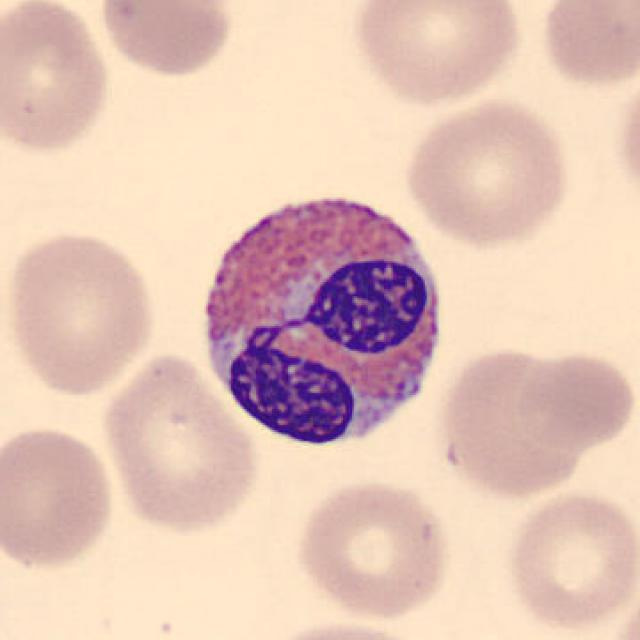Eosinophil: (185, 174, 455, 466)
RBC: (96, 349, 261, 538), (2, 226, 160, 400), (400, 94, 574, 248), (434, 342, 592, 501), (292, 474, 455, 622), (502, 487, 638, 633), (346, 0, 526, 109), (0, 0, 116, 159), (0, 421, 119, 575), (510, 347, 638, 453), (94, 0, 238, 81), (533, 0, 639, 93), (254, 617, 439, 640), (602, 583, 638, 640)
